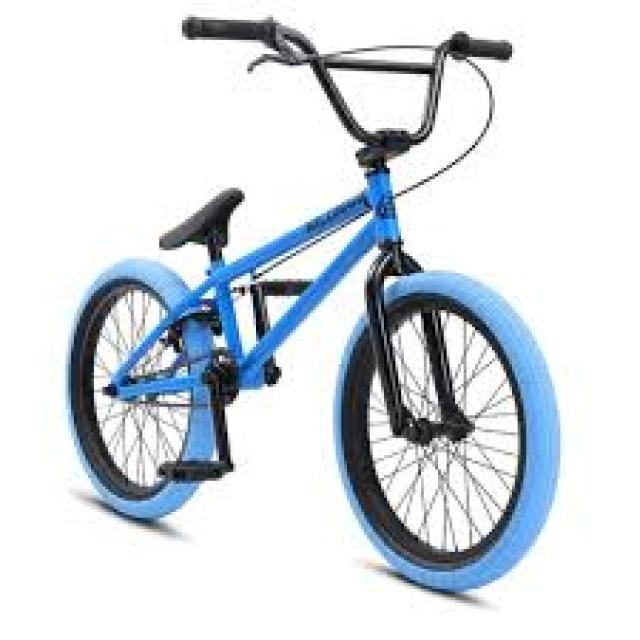bmx-bike: (62, 14, 564, 596)
